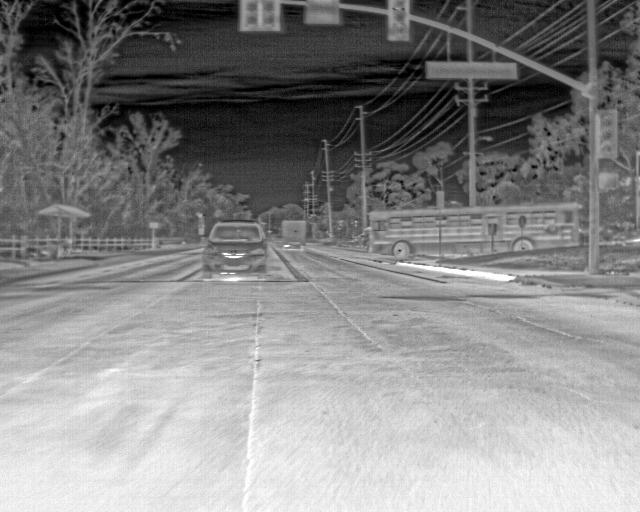car: (200, 219, 269, 281)
